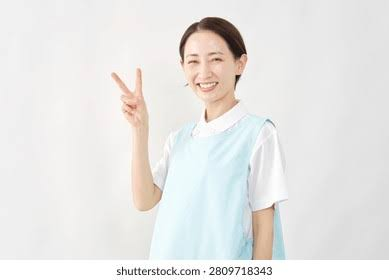peace_sign: (112, 64, 151, 124)
